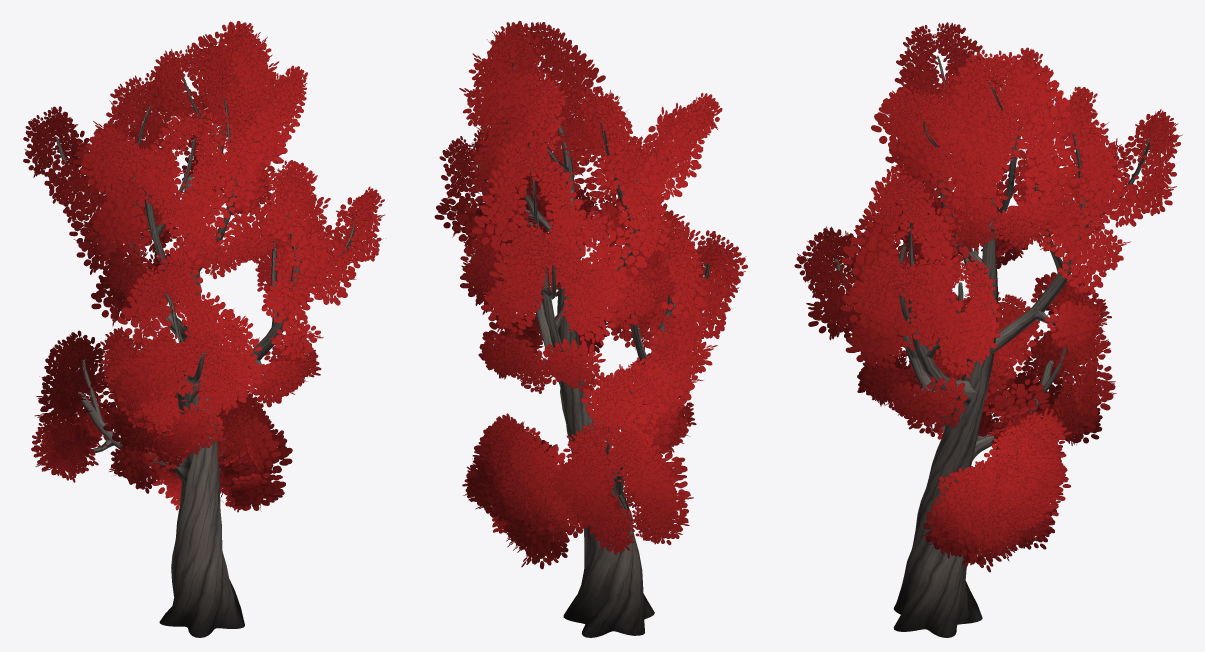
Rendered from TwistedTree_4.glb.
3 renders of one model, left to right at view 1: azimuth 30°, elevation 25°; view 2: azimuth 150°, elevation 25°; view 3: azimuth 270°, elevation 25°, orthographic. The views are drawn at different scales.
Parts seen in each view (by area): view 1: TwistedTree_4; view 2: TwistedTree_4; view 3: TwistedTree_4.
Part boxes in pixels (x1,y1,x2,y2): TwistedTree_4: (23,21,384,637); TwistedTree_4: (434,21,747,637); TwistedTree_4: (794,22,1182,637).
Bounding box in the file's own units: 10.38 × 18.74 × 11.29.
Materials: 2 (2 with a texture image).
